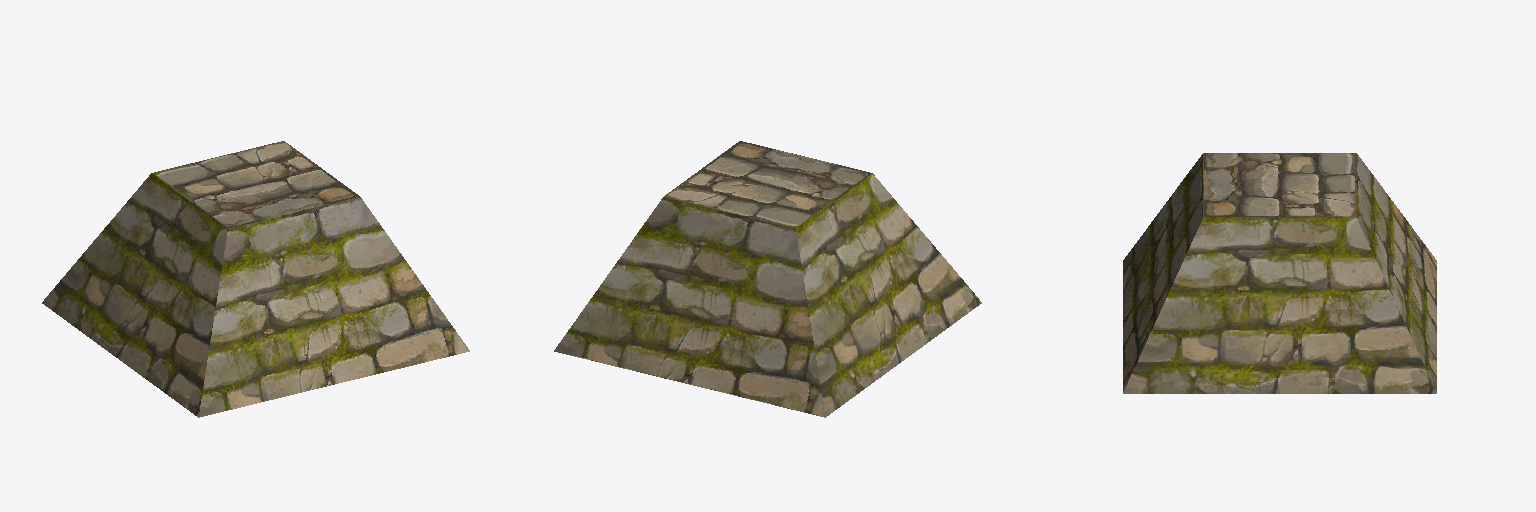
The picture shows the model from 3 angles: view 1: azimuth 30°, elevation 25°; view 2: azimuth 150°, elevation 25°; view 3: azimuth 270°, elevation 25°; orthographic projection.
Parts seen in each view (by area): view 1: Cube; view 2: Cube; view 3: Cube.
Boxes of the visible parts, x1,y1,x2,y2 form: Cube: [42, 141, 469, 417]; Cube: [554, 141, 981, 417]; Cube: [1123, 153, 1436, 393].
Size of the model in its own units: 2 by 1 by 2.
Materials: 1 (1 with a texture image).